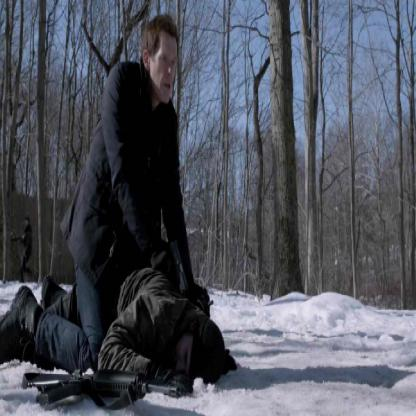Guns: (19, 363, 183, 413), (166, 237, 190, 299)
